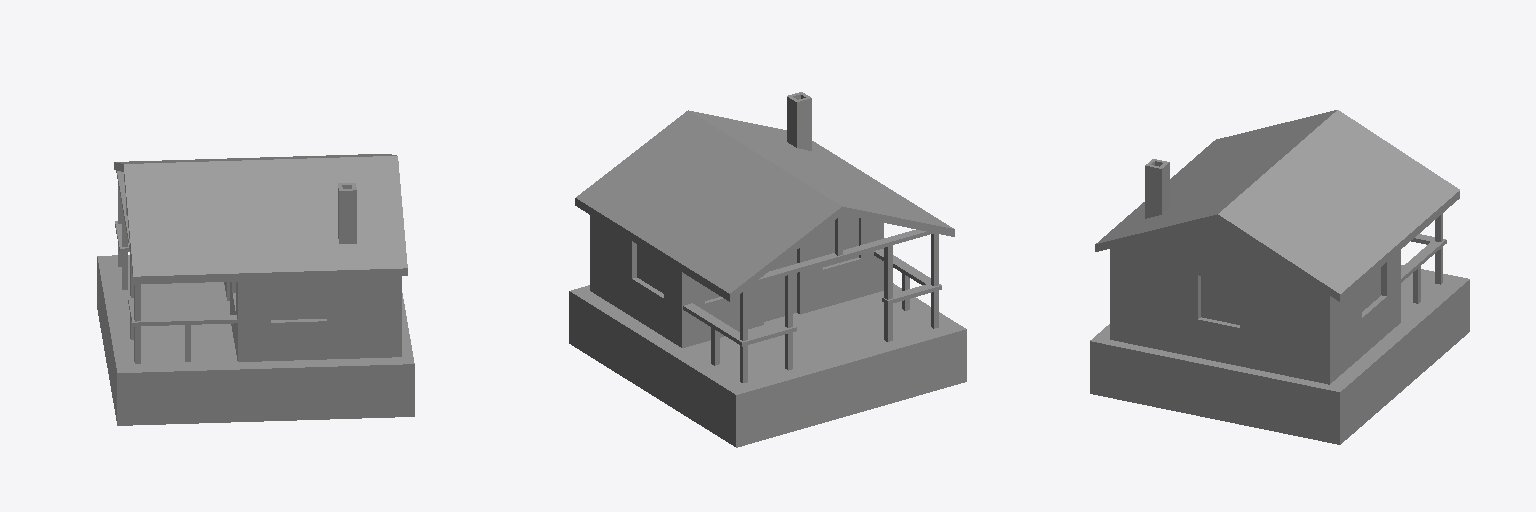
The model's file is BuildingOBJ13.obj.
3 renders of one model, left to right at view 1: azimuth 30°, elevation 25°; view 2: azimuth 150°, elevation 25°; view 3: azimuth 270°, elevation 25°, orthographic.
Parts seen in each view (by area): view 1: cabin_004.007_Untitled.016; view 2: cabin_004.007_Untitled.016; view 3: cabin_004.007_Untitled.016.
Boxes of the visible parts, x1,y1,x2,y2 form: cabin_004.007_Untitled.016: [97, 154, 414, 425]; cabin_004.007_Untitled.016: [569, 92, 966, 447]; cabin_004.007_Untitled.016: [1090, 110, 1469, 444].
Bounding box in the file's own units: 3.36 × 2.03 × 3.28.